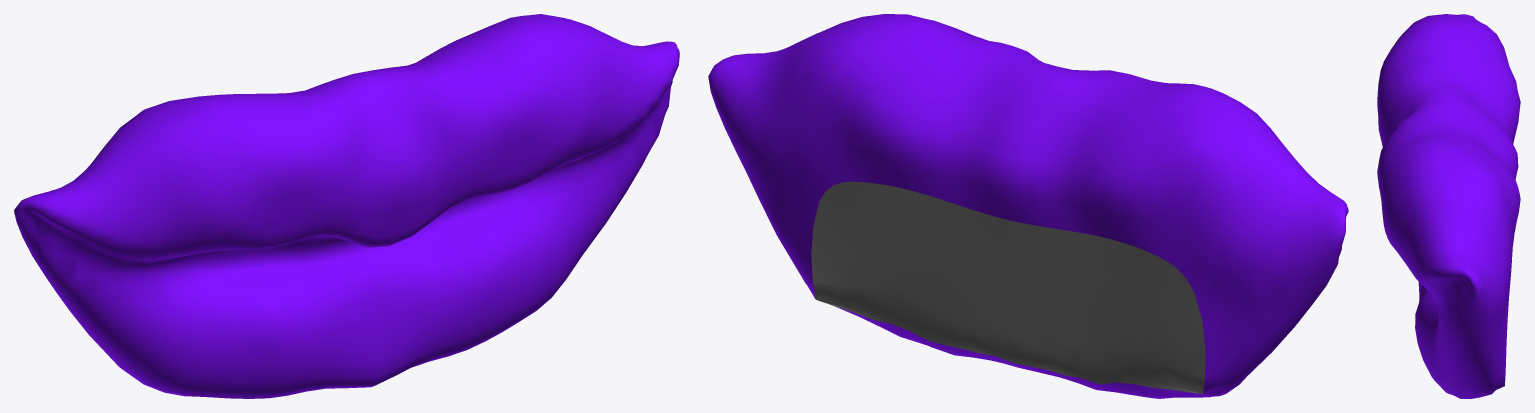
The model's file is SM_Lips.fbx.
3 views of the same model, side by side, from view 1: azimuth 30°, elevation 25°; view 2: azimuth 150°, elevation 25°; view 3: azimuth 270°, elevation 25° (orthographic). The views are drawn at different scales.
Visible parts, largest first — view 1: Lips_low; view 2: Lips_low; view 3: Lips_low.
Boxes of the visible parts, box(x1,y1,x2,y2) form: Lips_low: box(14, 14, 679, 398); Lips_low: box(708, 14, 1348, 398); Lips_low: box(1377, 14, 1520, 398).
Size of the model in its own units: 138 by 64.2 by 31.87.
